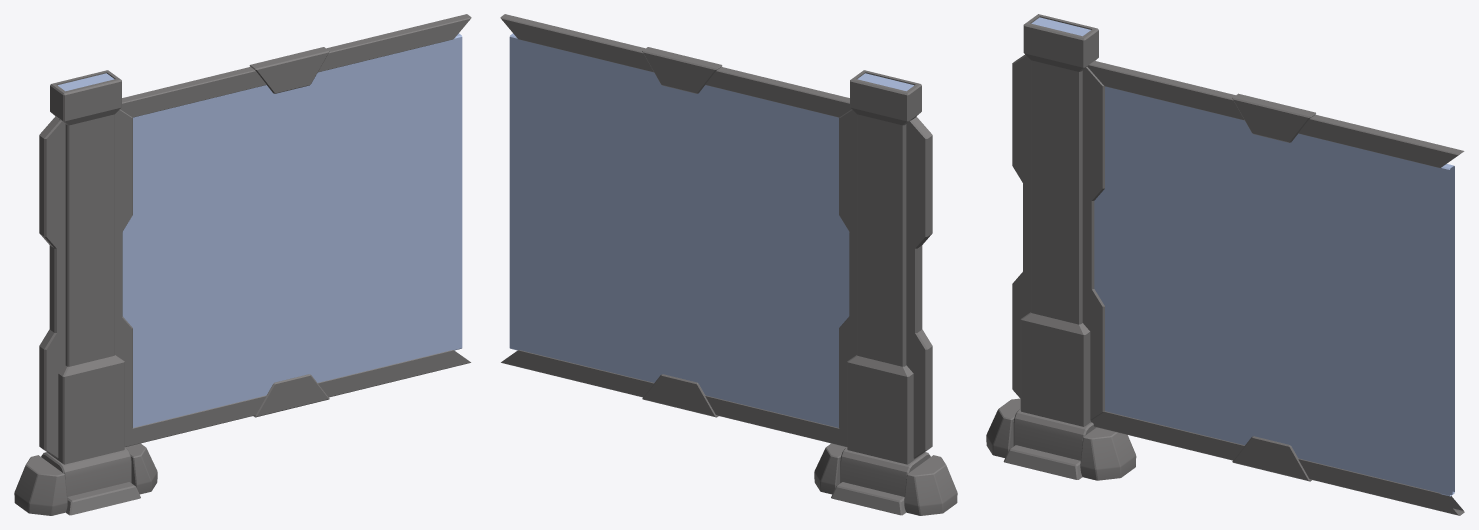
Rendered from Barriere_02_LP.fbx.
3 renders of one model, left to right at view 1: azimuth 30°, elevation 25°; view 2: azimuth 150°, elevation 25°; view 3: azimuth 330°, elevation 25°, orthographic. The views are drawn at different scales.
Visible parts, largest first — view 1: Barriere02Verre_low, Barriere02Pilier1_low, Barriere02Pilier2_low, Barriere02Cadre1_low, Barriere02Cadre2_low, Barriere02Socle3_low, Barriere02Socle2_low, Barriere02Socle1_low; view 2: Barriere02Verre_low, Barriere02Pilier1_low, Barriere02Pilier2_low, Barriere02Cadre1_low, Barriere02Cadre2_low, Barriere02Socle3_low, Barriere02Socle2_low, Barriere02Socle1_low; view 3: Barriere02Verre_low, Barriere02Pilier1_low, Barriere02Cadre1_low, Barriere02Pilier2_low, Barriere02Cadre2_low, Barriere02Socle3_low, Barriere02Socle2_low, Barriere02Socle1_low, Barriere02Holo_low.
Boxes of the visible parts, x1,y1,x2,y2 form: Barriere02Verre_low: (122,33,462,427); Barriere02Pilier1_low: (47,70,124,464); Barriere02Pilier2_low: (39,109,132,458); Barriere02Cadre1_low: (120,14,471,446); Barriere02Cadre2_low: (249,47,329,417); Barriere02Socle3_low: (14,443,157,515); Barriere02Socle2_low: (41,447,131,496); Barriere02Socle1_low: (65,482,140,515); Barriere02Verre_low: (509,33,849,427); Barriere02Pilier1_low: (847,70,924,464); Barriere02Pilier2_low: (839,109,932,458); Barriere02Cadre1_low: (500,14,851,446); Barriere02Cadre2_low: (642,47,722,417); Barriere02Socle3_low: (814,443,957,515); Barriere02Socle2_low: (840,447,930,496); Barriere02Socle1_low: (831,482,906,515); Barriere02Verre_low: (1094,86,1454,496); Barriere02Pilier1_low: (1020,14,1098,426); Barriere02Cadre1_low: (1087,60,1464,515); Barriere02Pilier2_low: (1012,54,1104,420); Barriere02Cadre2_low: (1232,93,1315,481); Barriere02Socle3_low: (986,398,1136,480); Barriere02Socle2_low: (1013,409,1096,460); Barriere02Socle1_low: (1003,445,1082,479); Barriere02Holo_low: (1450,167,1452,495).
Bounding box in the file's own units: 2.12 × 1.86 × 0.3236.
